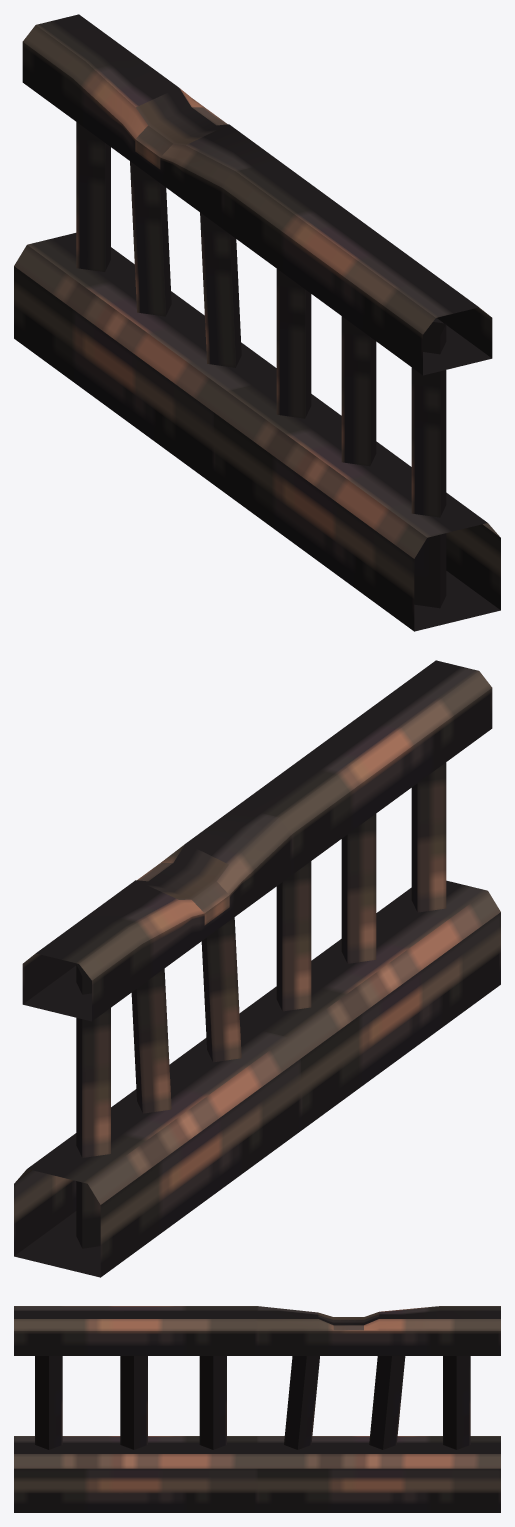
File: EnvBdgMD_Factory_B_Fenece_A_Loop_200W_Broken.FBX
The picture shows the model from 3 angles, top to bottom: view 1: azimuth 30°, elevation 25°; view 2: azimuth 150°, elevation 25°; view 3: azimuth 270°, elevation 25°; orthographic projection. The views are drawn at different scales.
Parts seen in each view (by area): view 1: EnvBdgMD_Factory_B_Fenece_A_Loop_200W_Broken; view 2: EnvBdgMD_Factory_B_Fenece_A_Loop_200W_Broken; view 3: EnvBdgMD_Factory_B_Fenece_A_Loop_200W_Broken.
Part boxes in pixels (box(x1,y1,x2,y2)): EnvBdgMD_Factory_B_Fenece_A_Loop_200W_Broken: box(14, 14, 500, 631); EnvBdgMD_Factory_B_Fenece_A_Loop_200W_Broken: box(14, 660, 500, 1277); EnvBdgMD_Factory_B_Fenece_A_Loop_200W_Broken: box(14, 1306, 500, 1512).
Bounding box in the file's own units: 25 × 85.49 × 200.
